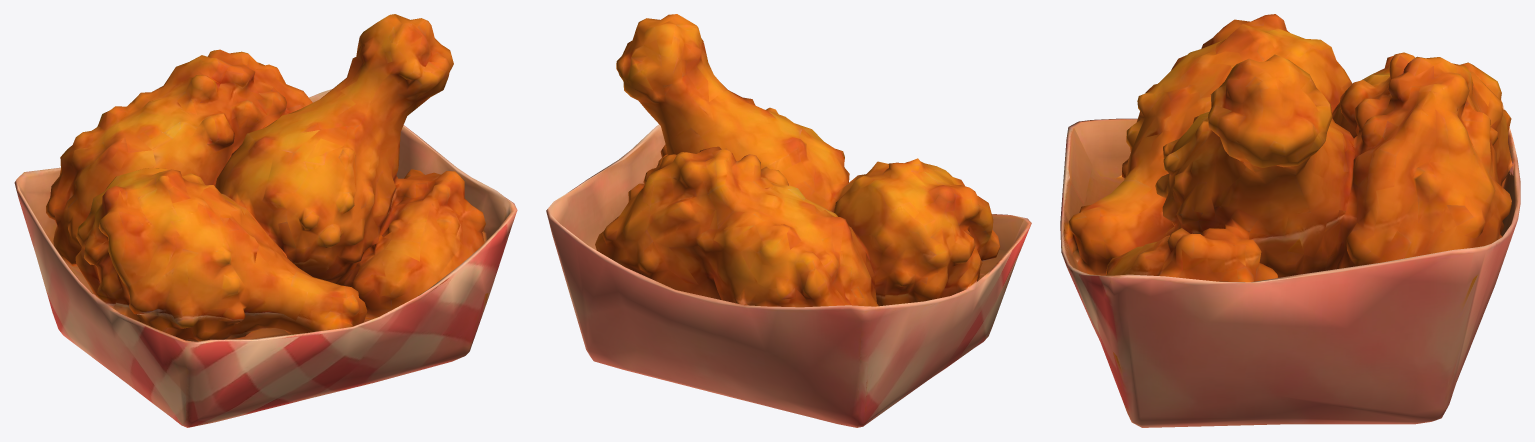
3 views of the same model, side by side, from view 1: azimuth 30°, elevation 25°; view 2: azimuth 150°, elevation 25°; view 3: azimuth 270°, elevation 25° (orthographic). The views are drawn at different scales.
Parts seen in each view (by area): view 1: chicken; view 2: chicken; view 3: chicken.
Part boxes in pixels (x1,y1,x2,y2): chicken: (14,14,517,427); chicken: (546,14,1031,427); chicken: (1060,14,1520,427).
Size of the model in its own units: 0.2 by 0.1592 by 0.1808.
1 material, 1 textured.
